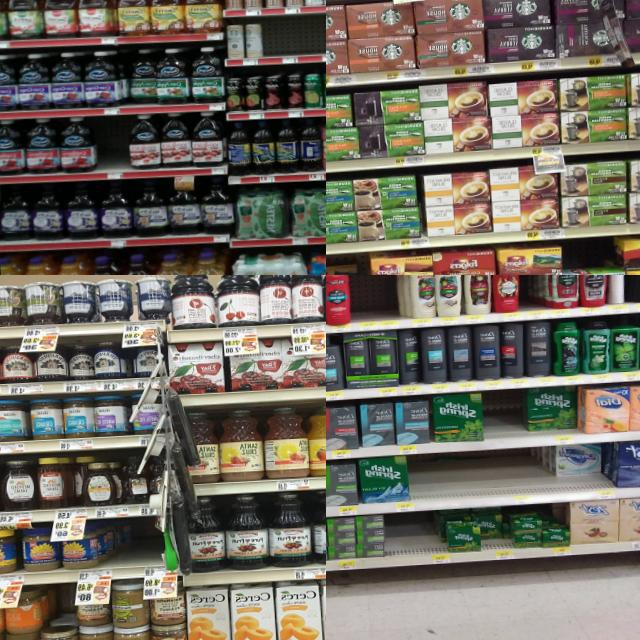100% O.O.S: (412, 448, 533, 510), (384, 511, 436, 567), (482, 389, 524, 449), (351, 275, 375, 331), (376, 275, 399, 329), (520, 275, 541, 319)
100- O.O.S: (123, 516, 162, 578), (98, 117, 130, 180), (302, 15, 326, 62)
